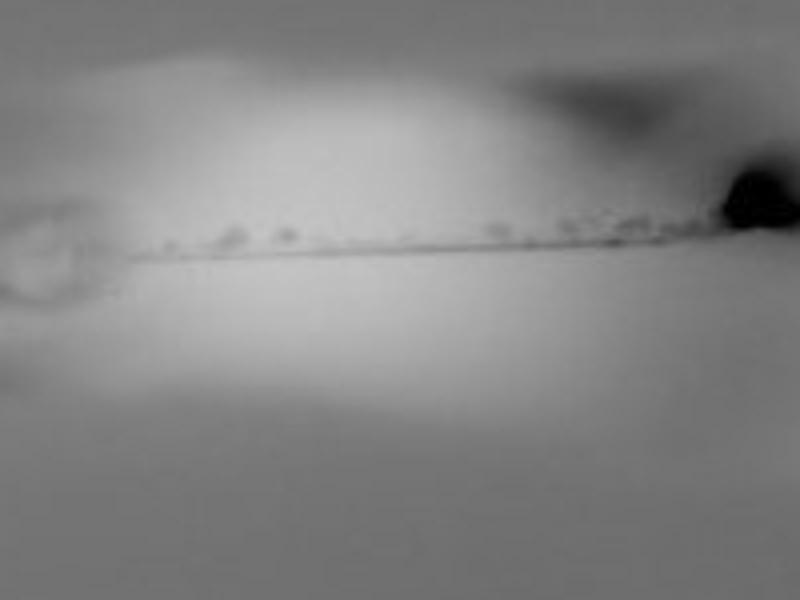defect: (722, 171, 794, 231), (213, 224, 250, 254), (612, 214, 656, 234), (480, 220, 511, 242), (557, 218, 584, 240), (277, 223, 301, 245), (163, 238, 182, 259), (689, 223, 704, 234)
